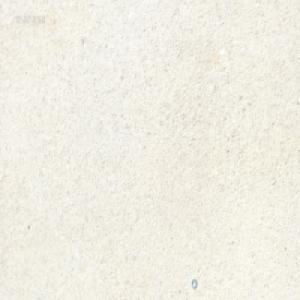Washer: (191, 277, 197, 289)
